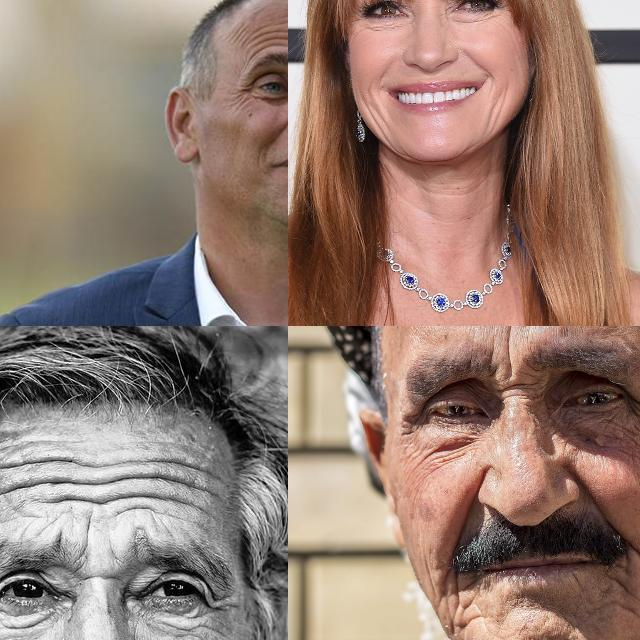chin: (606, 570, 632, 598), (570, 572, 586, 592)
crows_feet: (203, 578, 237, 630), (400, 409, 428, 437), (232, 78, 254, 106), (625, 396, 640, 428)
forehead: (152, 453, 215, 522), (0, 446, 77, 502), (92, 454, 144, 512), (257, 23, 288, 53), (226, 19, 252, 46)
frown_line: (73, 522, 97, 566), (497, 378, 531, 402), (502, 332, 516, 374)
gummy_smile: (572, 472, 614, 512), (452, 492, 480, 540), (460, 46, 492, 72), (266, 115, 288, 142), (378, 58, 398, 82)
masseter: (410, 449, 460, 469), (358, 89, 386, 123), (486, 92, 506, 128), (612, 434, 640, 459)
sad_smile: (443, 580, 473, 626), (631, 546, 640, 585)
